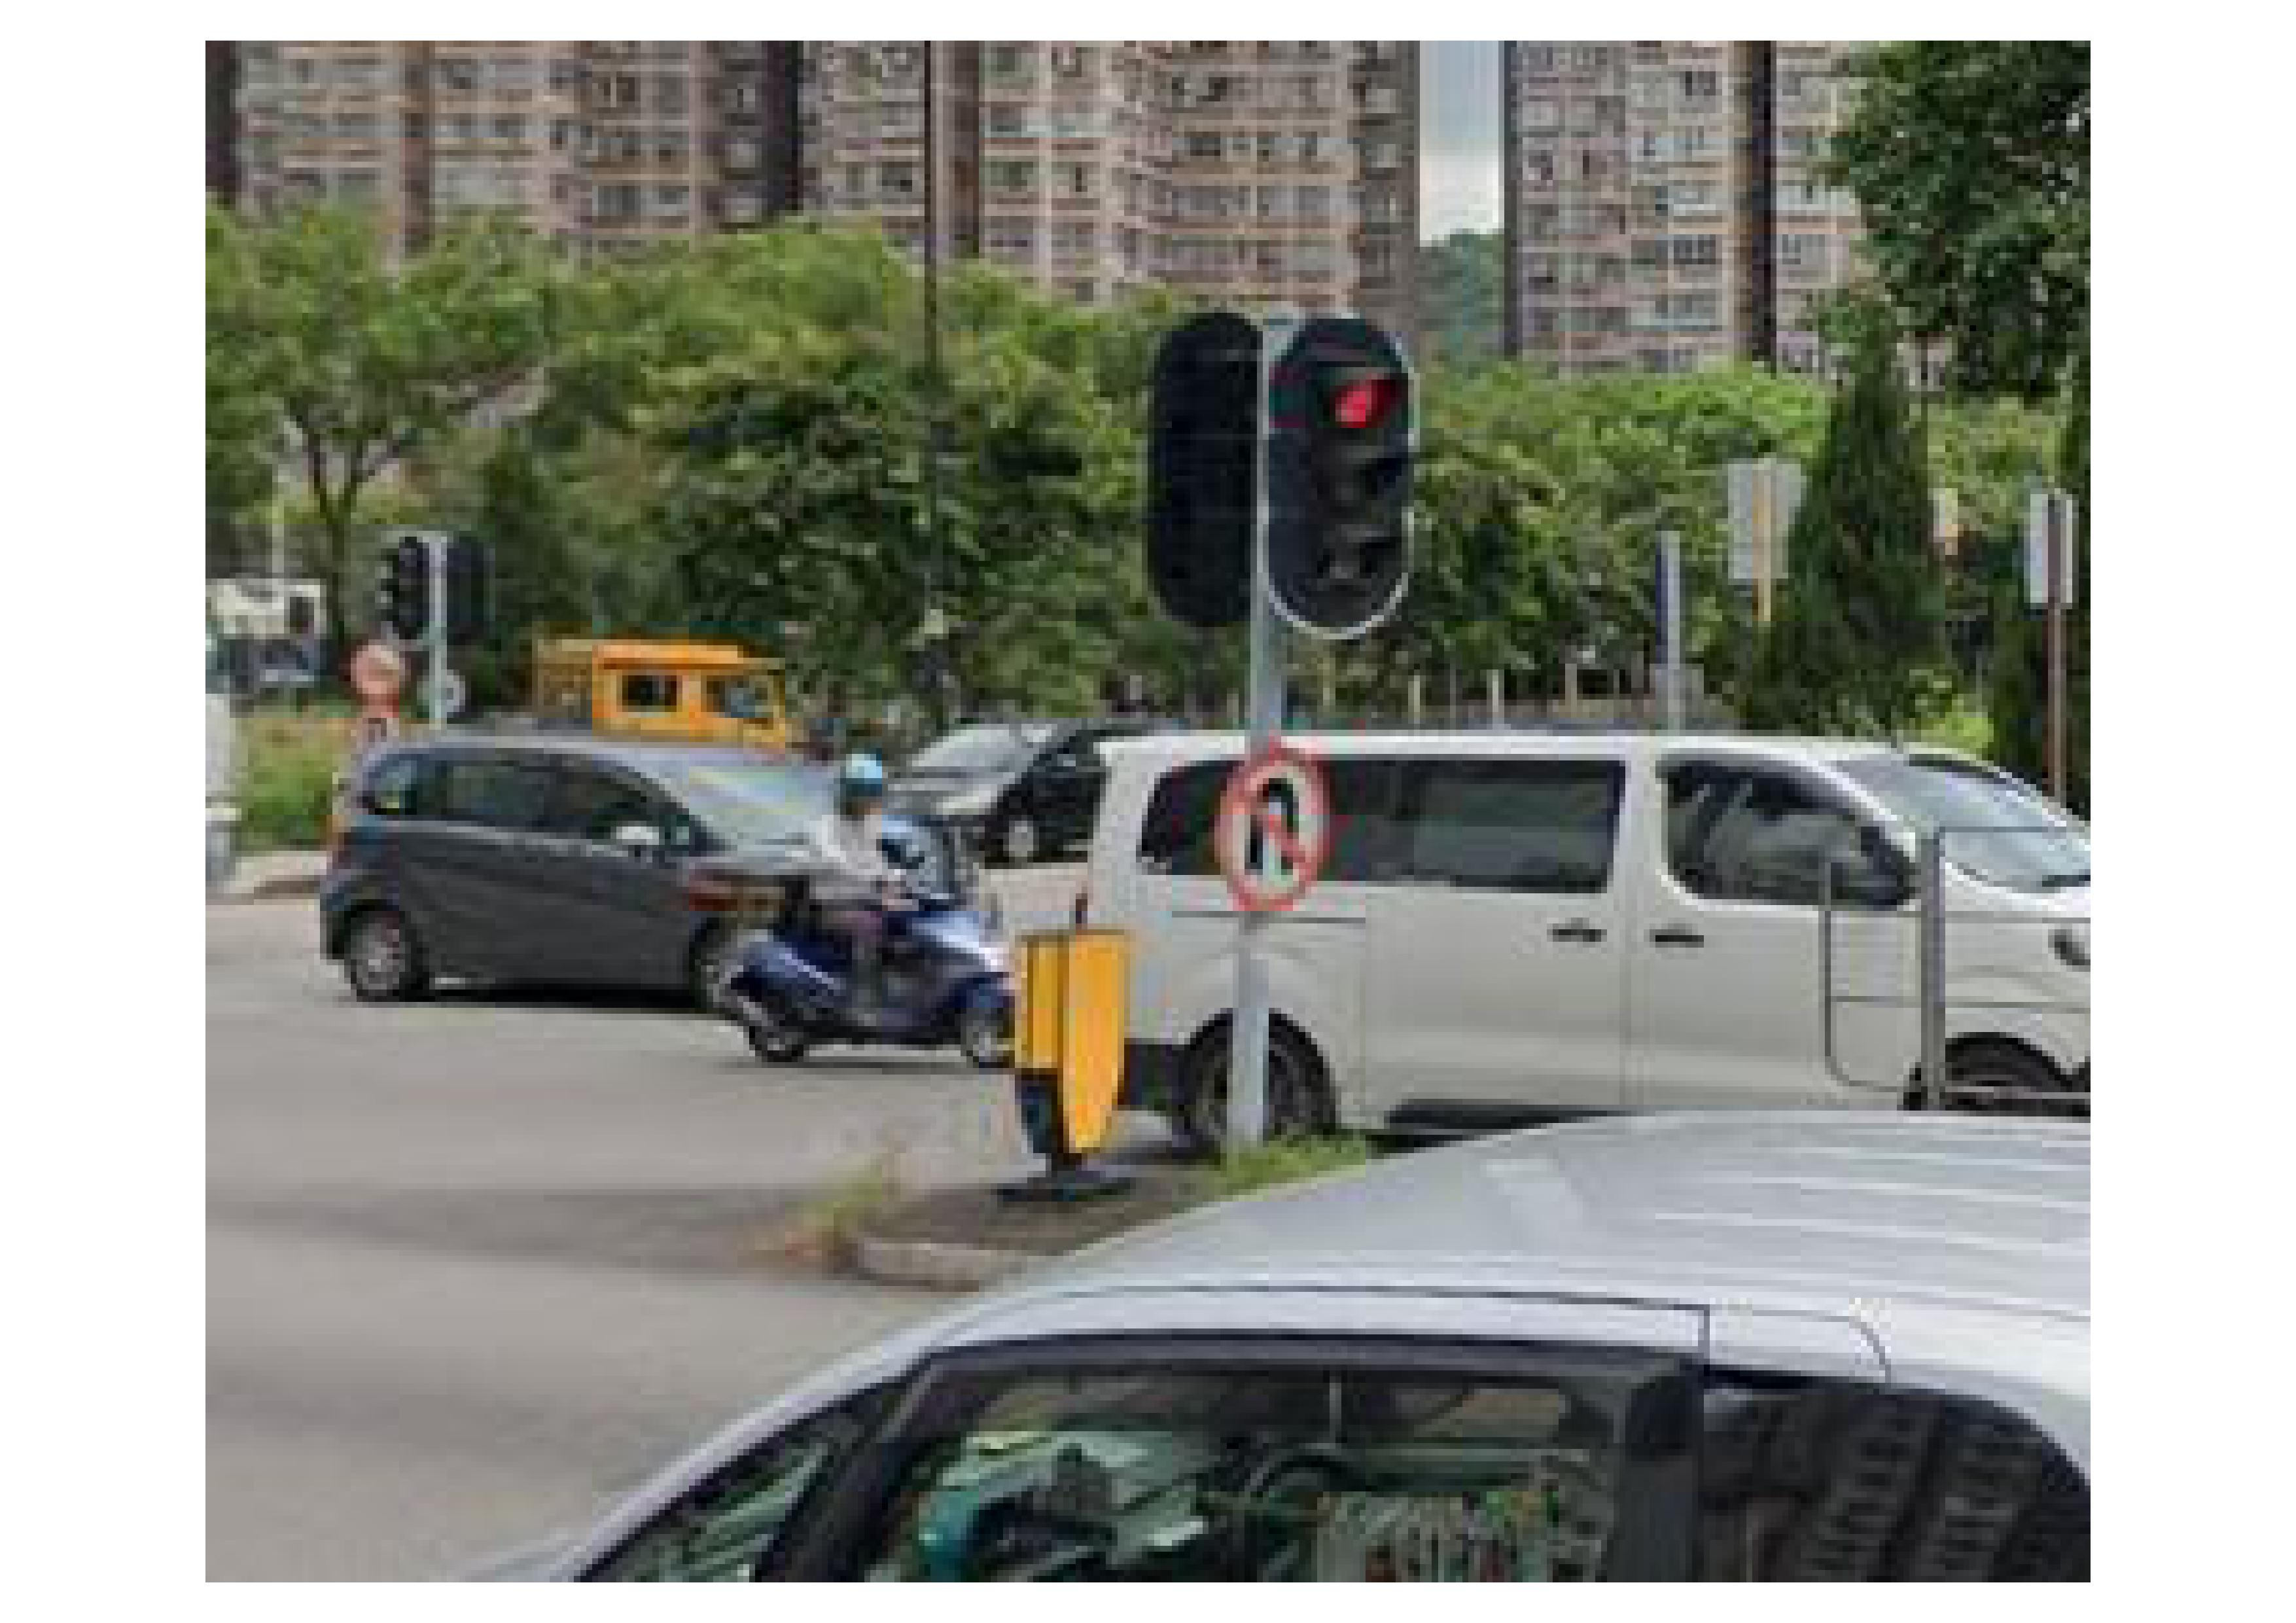No Uturn: (1213, 748, 1346, 917)
